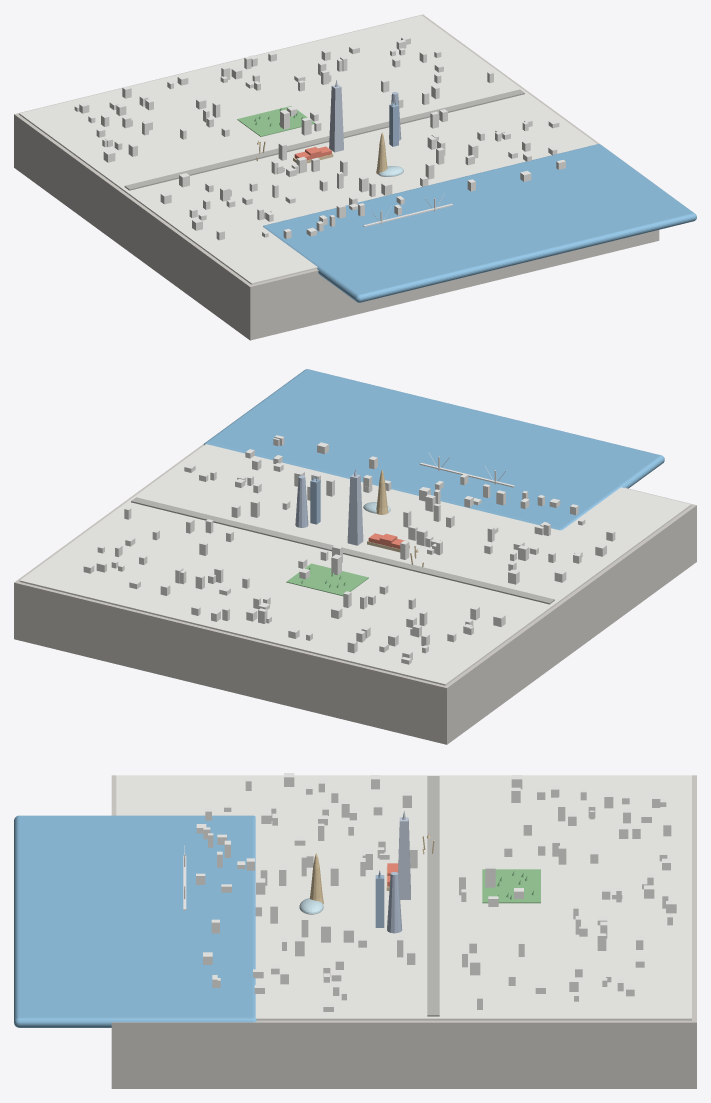
Rendered from shenzhen_miniature.glb.
The picture shows the model from 3 angles, top to bottom: view 1: azimuth 30°, elevation 25°; view 2: azimuth 150°, elevation 25°; view 3: azimuth 270°, elevation 25°; orthographic projection. The views are drawn at different scales.
Visible parts, largest first — view 1: Ground, ShenzhenBay, Base, ShennanAve, LianhuaPark, PingAn_body; view 2: Ground, Base, ShenzhenBay, ShennanAve, LianhuaPark, PingAn_body; view 3: Ground, ShenzhenBay, Base, ShennanAve, LianhuaPark, PingAn_body, KK100_body, ShunHing_body.
Part boxes in pixels (left/top/right/bottom): Ground: left=19, top=15, right=597, bottom=284; ShenzhenBay: left=263, top=144, right=696, bottom=302; Base: left=14, top=14, right=659, bottom=340; ShennanAve: left=124, top=89, right=524, bottom=190; LianhuaPark: left=237, top=106, right=314, bottom=136; PingAn_body: left=329, top=84, right=343, bottom=152; Ground: left=19, top=444, right=691, bottom=685; Base: left=14, top=409, right=696, bottom=744; ShenzhenBay: left=203, top=369, right=664, bottom=530; ShennanAve: left=131, top=497, right=554, bottom=604; LianhuaPark: left=286, top=563, right=368, bottom=596; PingAn_body: left=347, top=474, right=363, bottom=545; Ground: left=116, top=775, right=691, bottom=1020; ShenzhenBay: left=14, top=815, right=256, bottom=1027; Base: left=111, top=775, right=696, bottom=1088; ShennanAve: left=427, top=776, right=439, bottom=1016; LianhuaPark: left=482, top=869, right=540, bottom=903; PingAn_body: left=398, top=817, right=410, bottom=899; KK100_body: left=387, top=872, right=402, bottom=933; ShunHing_body: left=375, top=875, right=384, bottom=927.
Bounding box in the file's own units: 12 × 3.5 × 14.
